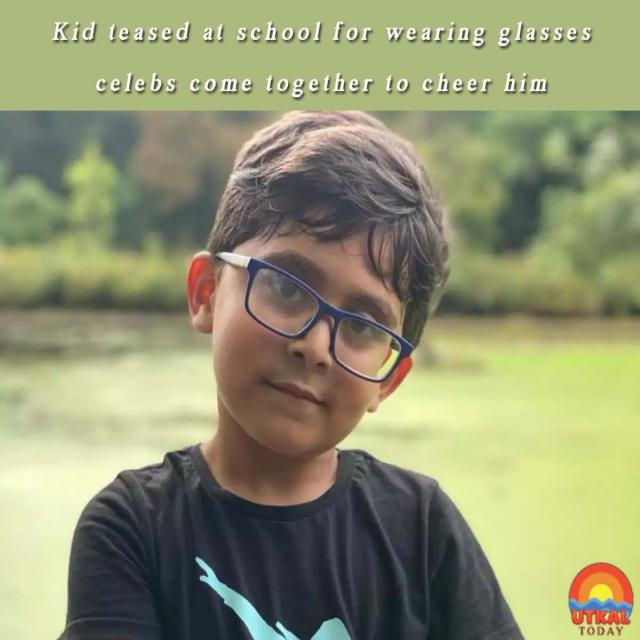Glasses: (220, 249, 416, 388)
